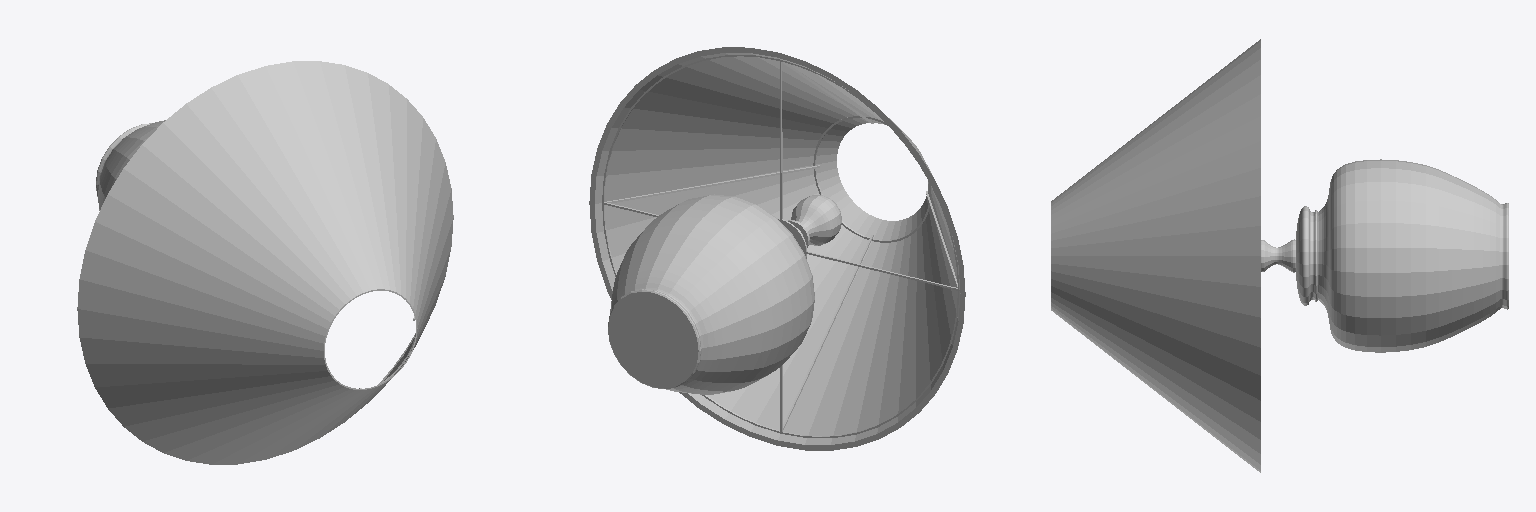
3 renders of one model, left to right at view 1: azimuth 30°, elevation 25°; view 2: azimuth 150°, elevation 25°; view 3: azimuth 270°, elevation 25°, orthographic.
Parts seen in each view (by area): view 1: Circle01 Mesh, Line01 Mesh; view 2: Circle01 Mesh, Line01 Mesh, Donut01 Mesh, lamp Mesh, Donut02 Mesh, Rectangle1 Mesh, Rectangle5 Mesh; view 3: Circle01 Mesh, Line01 Mesh, Line02 Mesh.
Part boxes in pixels (bbox=[...]): Circle01 Mesh: bbox=[77, 61, 453, 464]; Line01 Mesh: bbox=[96, 120, 165, 210]; Circle01 Mesh: bbox=[589, 47, 965, 450]; Line01 Mesh: bbox=[608, 194, 814, 394]; Donut01 Mesh: bbox=[602, 55, 959, 437]; lamp Mesh: bbox=[791, 195, 841, 245]; Donut02 Mesh: bbox=[813, 116, 930, 242]; Rectangle1 Mesh: bbox=[782, 235, 873, 431]; Rectangle5 Mesh: bbox=[607, 165, 819, 202]; Circle01 Mesh: bbox=[1051, 39, 1260, 472]; Line01 Mesh: bbox=[1296, 159, 1508, 352]; Line02 Mesh: bbox=[1261, 239, 1295, 272].
Size of the model in its own units: 342 by 342 by 361.